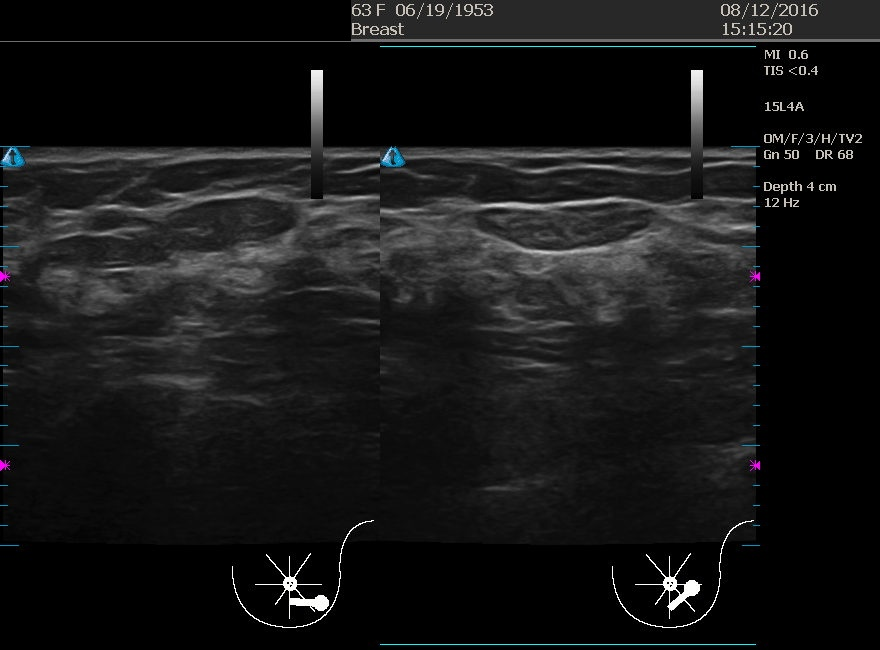BIRADS_3: (114, 178, 306, 370), (464, 152, 656, 344)
